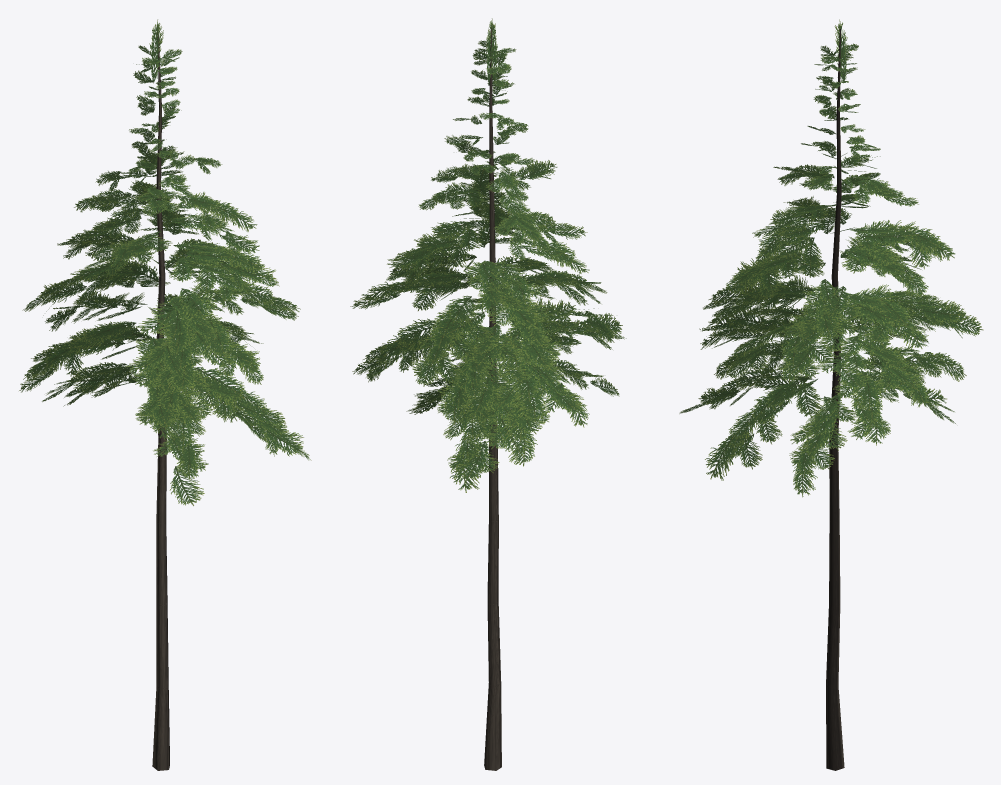
The model's file is mid.glb.
3 renders of one model, left to right at view 1: azimuth 30°, elevation 25°; view 2: azimuth 150°, elevation 25°; view 3: azimuth 270°, elevation 25°, orthographic.
Visible parts, largest first — view 1: spruce_04; view 2: spruce_04; view 3: spruce_04.
Part boxes in pixels (x1,y1,x2,y2): spruce_04: (19, 19, 311, 770); spruce_04: (350, 18, 626, 770); spruce_04: (679, 19, 983, 770).
Size of the model in its own units: 7.59 by 21.76 by 8.43.
2 materials, 2 textured.
